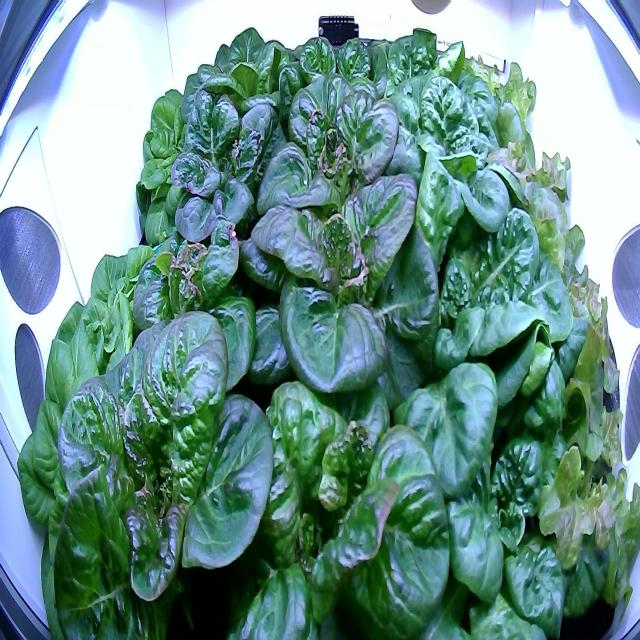Ready: (49, 299, 279, 633), (218, 352, 453, 637), (235, 163, 449, 417), (416, 363, 609, 636), (8, 332, 148, 638), (245, 69, 438, 258), (404, 203, 581, 404), (126, 226, 287, 431), (386, 72, 544, 265), (165, 82, 302, 293), (31, 241, 181, 423), (377, 27, 504, 160), (184, 16, 308, 150), (281, 18, 399, 146), (129, 77, 222, 236)
